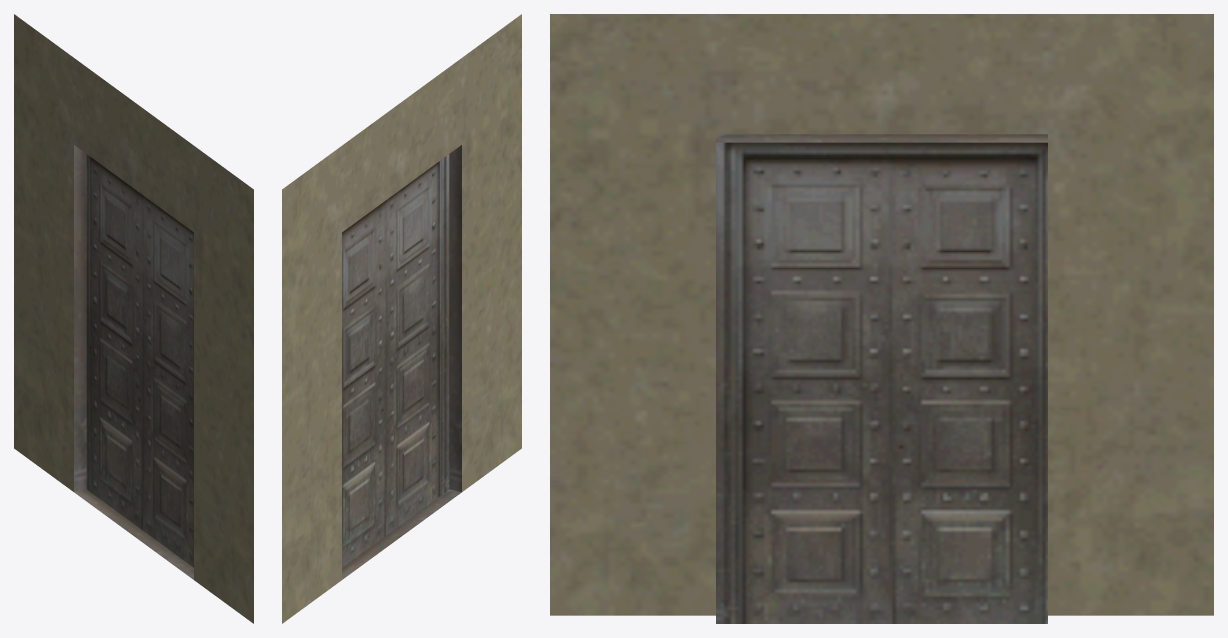
File: Urban_StucoWallMetalDoorIndent_Model.fbx
The picture shows the model from 3 angles, left to right: view 1: azimuth 30°, elevation 25°; view 2: azimuth 150°, elevation 25°; view 3: azimuth 270°, elevation 25°; orthographic projection. The views are drawn at different scales.
Visible parts, largest first — view 1: Urban_StucoWallMetalDoorIndent_Mesh; view 2: Urban_StucoWallMetalDoorIndent_Mesh; view 3: Urban_StucoWallMetalDoorIndent_Mesh.
Part boxes in pixels (left/top/right/bottom): Urban_StucoWallMetalDoorIndent_Mesh: left=14, top=14, right=253, bottom=623; Urban_StucoWallMetalDoorIndent_Mesh: left=282, top=14, right=521, bottom=623; Urban_StucoWallMetalDoorIndent_Mesh: left=550, top=14, right=1213, bottom=623.
Size of the model in its own units: 0.0635 by 2.1 by 2.1.
